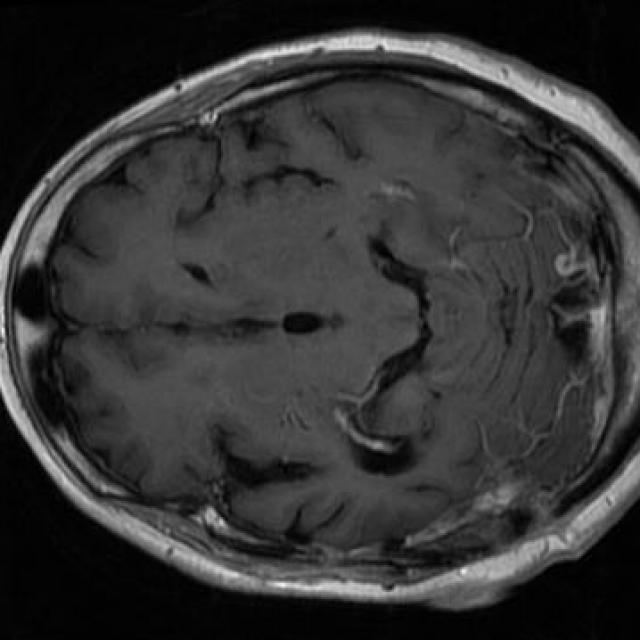glioma: (403, 456, 560, 549)
